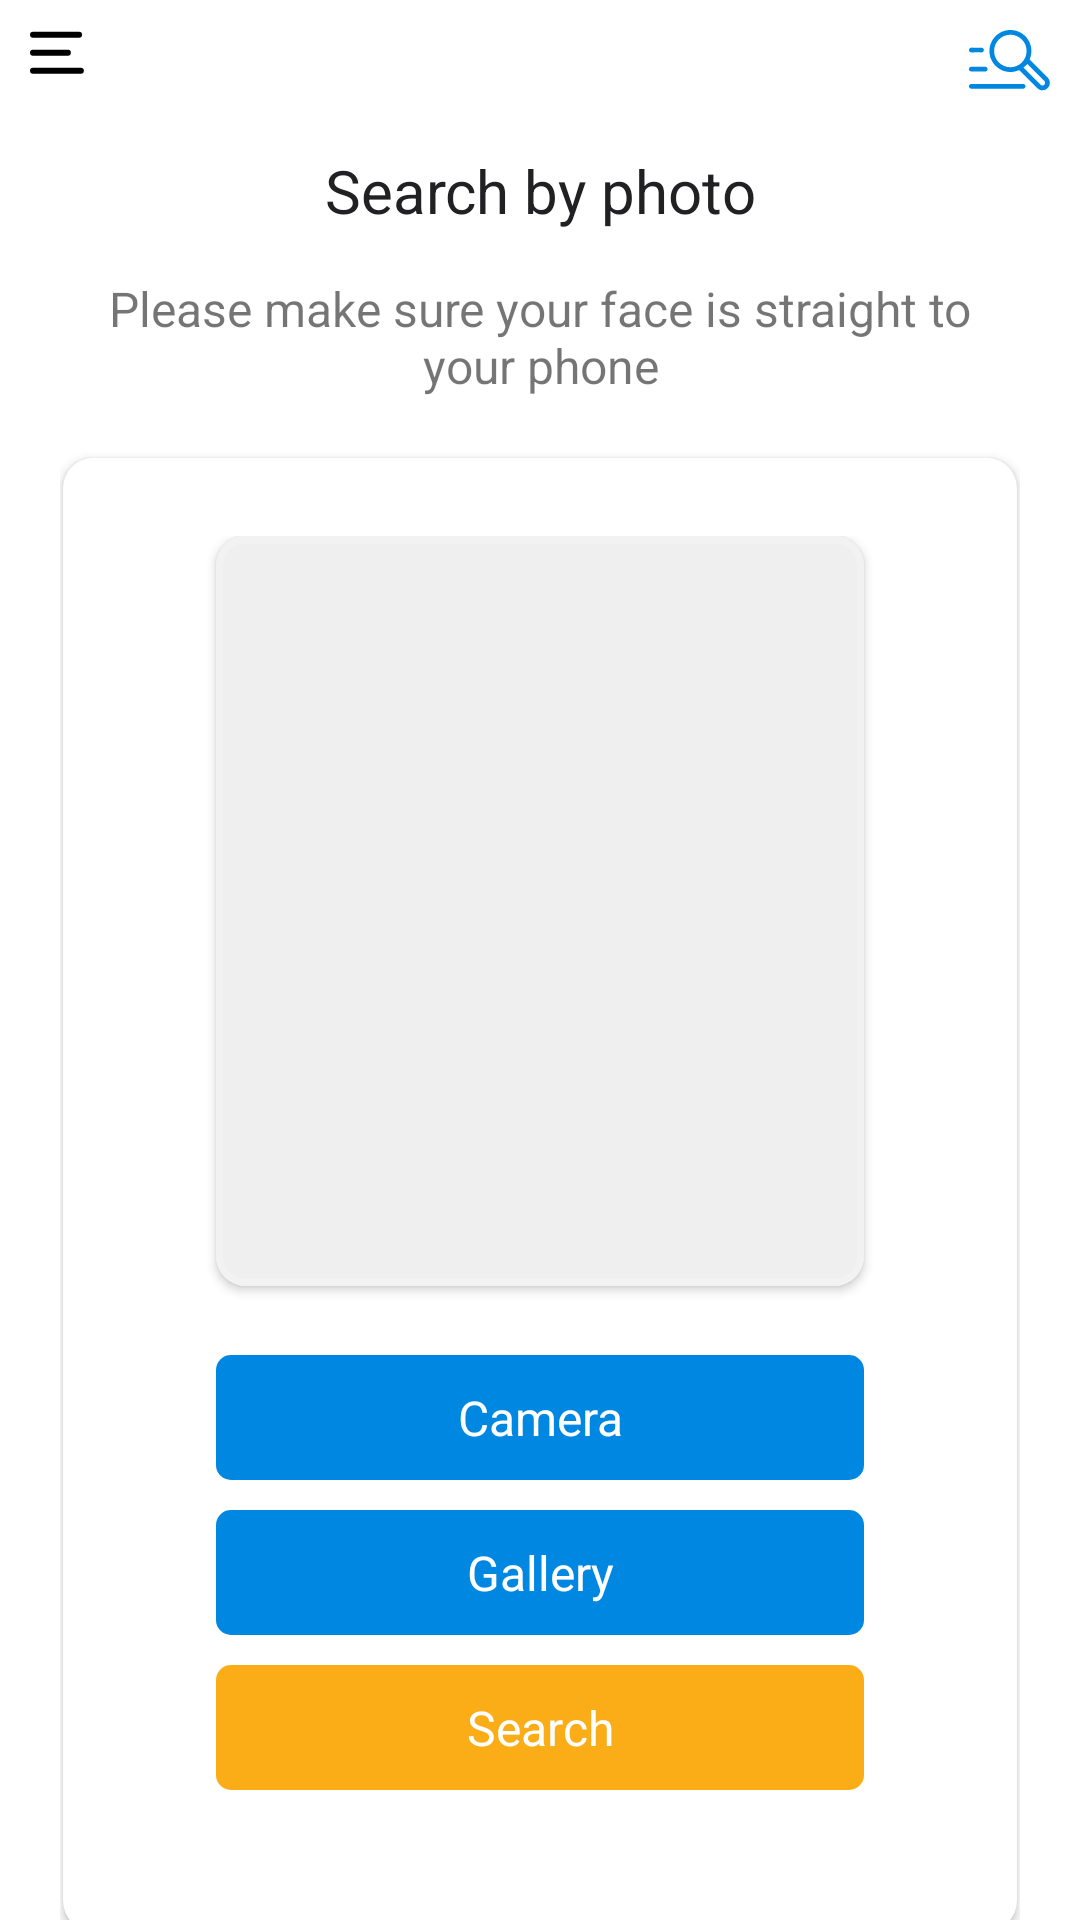

Screen size 1080*1920. Icon name, then its box in pixels as detection(x1, y1, x2, y2):
hamb: detection(30, 31, 84, 74)
search: detection(969, 30, 1050, 91)
